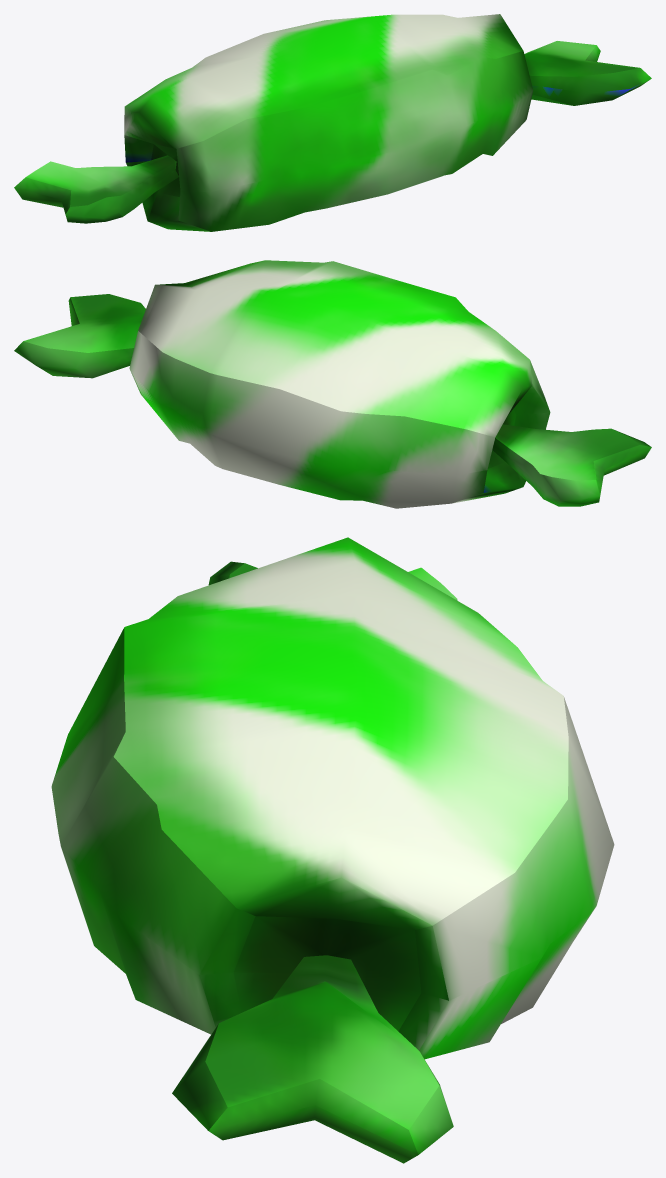
The model's file is assets_same_uvset_dulce_verde.fbx.
3 renders of one model, top to bottom at view 1: azimuth 30°, elevation 25°; view 2: azimuth 150°, elevation 25°; view 3: azimuth 270°, elevation 25°, orthographic. The views are drawn at different scales.
Parts seen in each view (by area): view 1: assets_same_uvset:dulce_verde; view 2: assets_same_uvset:dulce_verde; view 3: assets_same_uvset:dulce_verde.
Part boxes in pixels (x1,y1,x2,y2): assets_same_uvset:dulce_verde: [14, 14, 651, 231]; assets_same_uvset:dulce_verde: [14, 260, 651, 508]; assets_same_uvset:dulce_verde: [51, 537, 614, 1163].
Bounding box in the file's own units: 2.85 × 0.7114 × 1.19.
1 material, 1 textured.
